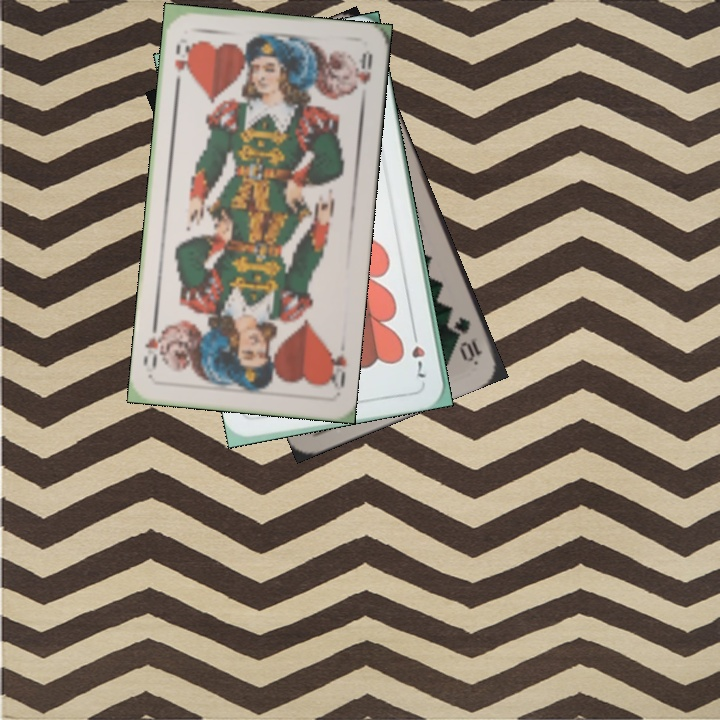G10: (449, 312, 485, 364)
H7: (407, 325, 428, 381)
HO: (322, 336, 350, 392), (170, 39, 195, 89)
